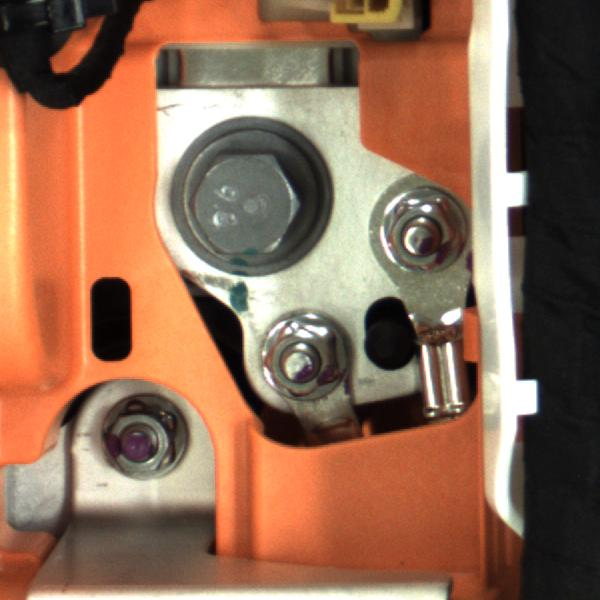nut_b: (163, 130, 332, 271)
screw_s: (94, 399, 206, 496), (377, 189, 468, 286), (261, 315, 348, 402)
